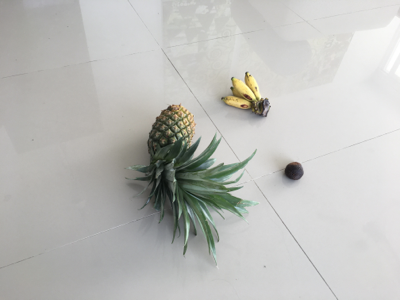banana: (222, 72, 271, 117)
pineapple: (123, 103, 257, 259)
snake fruit: (285, 162, 304, 182)
